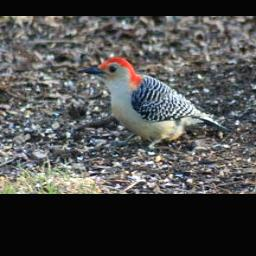Woodpecker: (79, 58, 225, 157)
